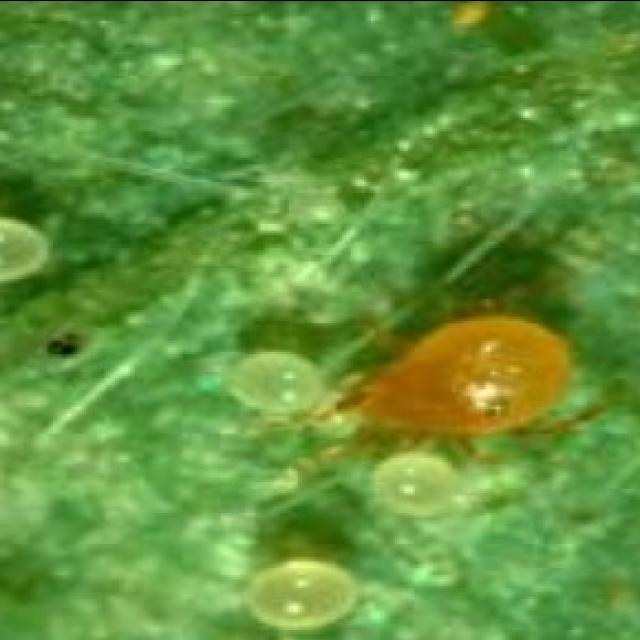brown plant hopper: (340, 316, 572, 433)
